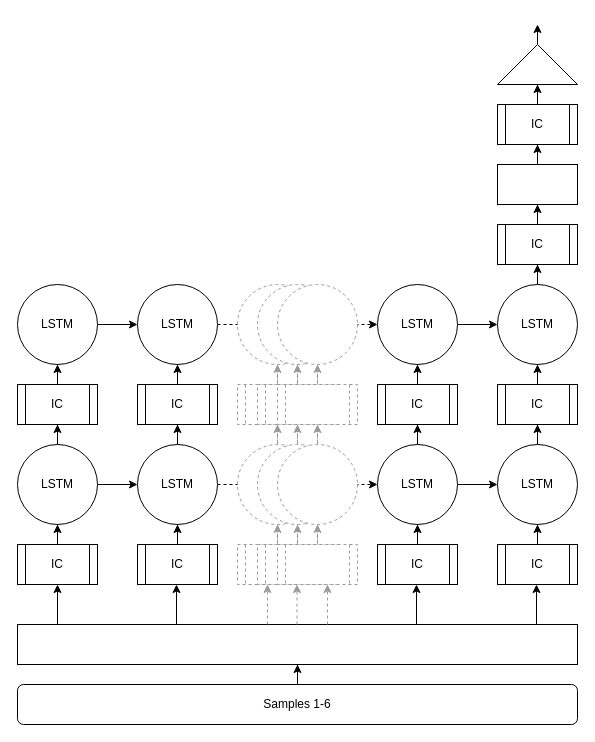
Image size: 595x742. Some labels were removed from this diagram. The centre of each missing label's shape, as x and y in pixels:
"CNN" goes at (x=297, y=644).
"Fully Connected" goes at (x=537, y=184).
"Output" goes at (x=537, y=64).
